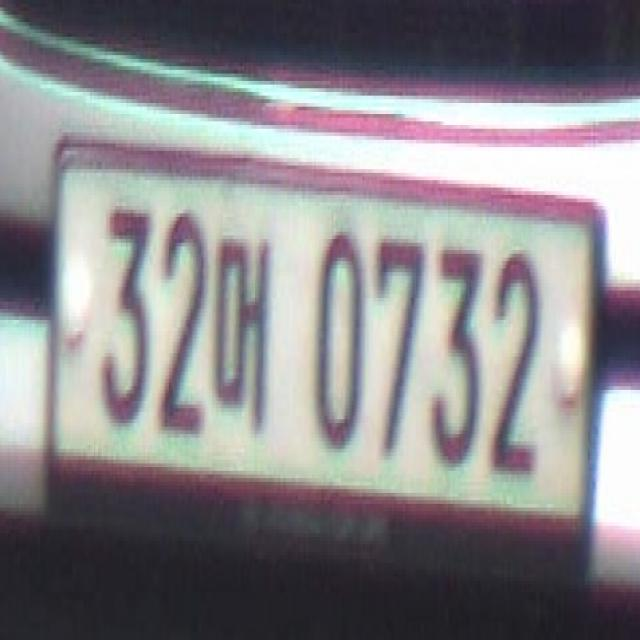0: (312, 224, 362, 456)
2: (488, 243, 541, 482), (158, 213, 208, 438)
3: (98, 192, 153, 430), (435, 236, 483, 474)
7: (370, 228, 423, 456)
license_plate: (54, 147, 596, 541)
meo: (208, 232, 272, 430)
